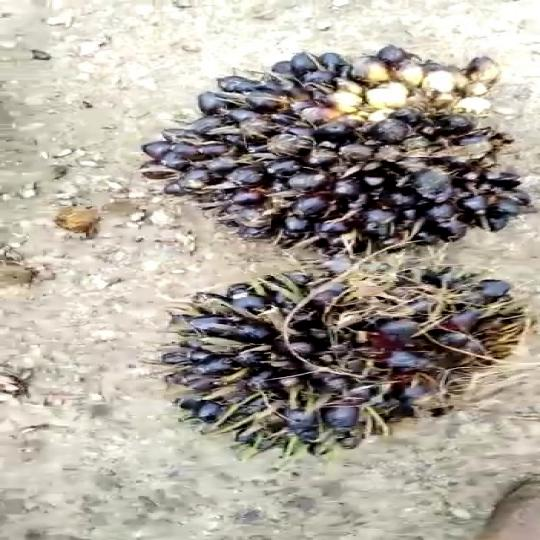mentah: (142, 39, 536, 270)
